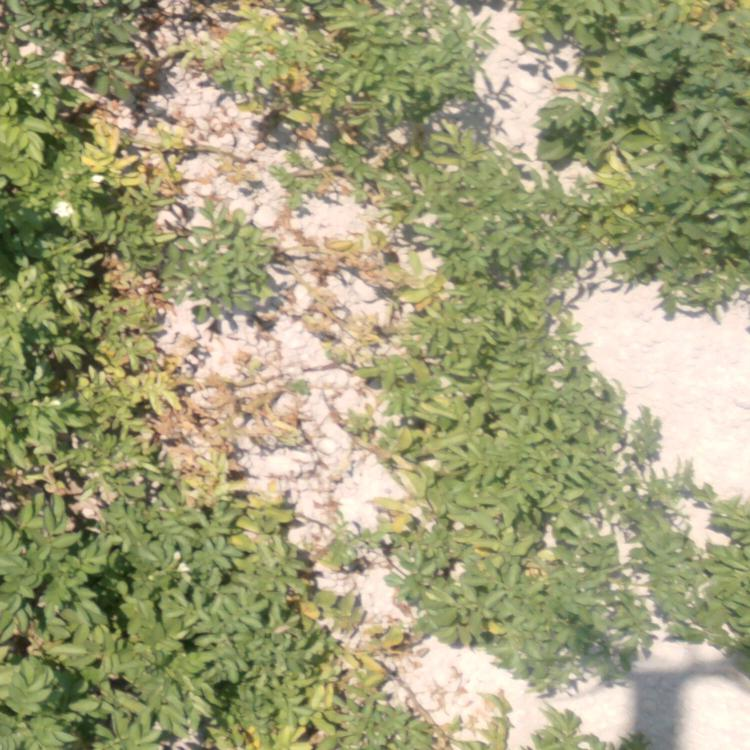healthy: (1, 503, 203, 750), (472, 120, 745, 294), (520, 3, 750, 118), (492, 290, 622, 486), (1, 275, 72, 506)
stressed: (361, 491, 750, 658), (173, 1, 464, 133), (225, 506, 368, 748), (328, 306, 489, 482), (81, 312, 231, 500), (326, 147, 468, 296), (1, 2, 81, 257), (93, 205, 283, 299), (94, 1, 164, 195), (382, 692, 578, 744)
